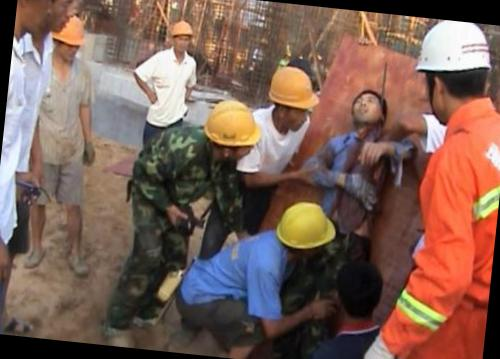no_helmet: (346, 84, 394, 134)
